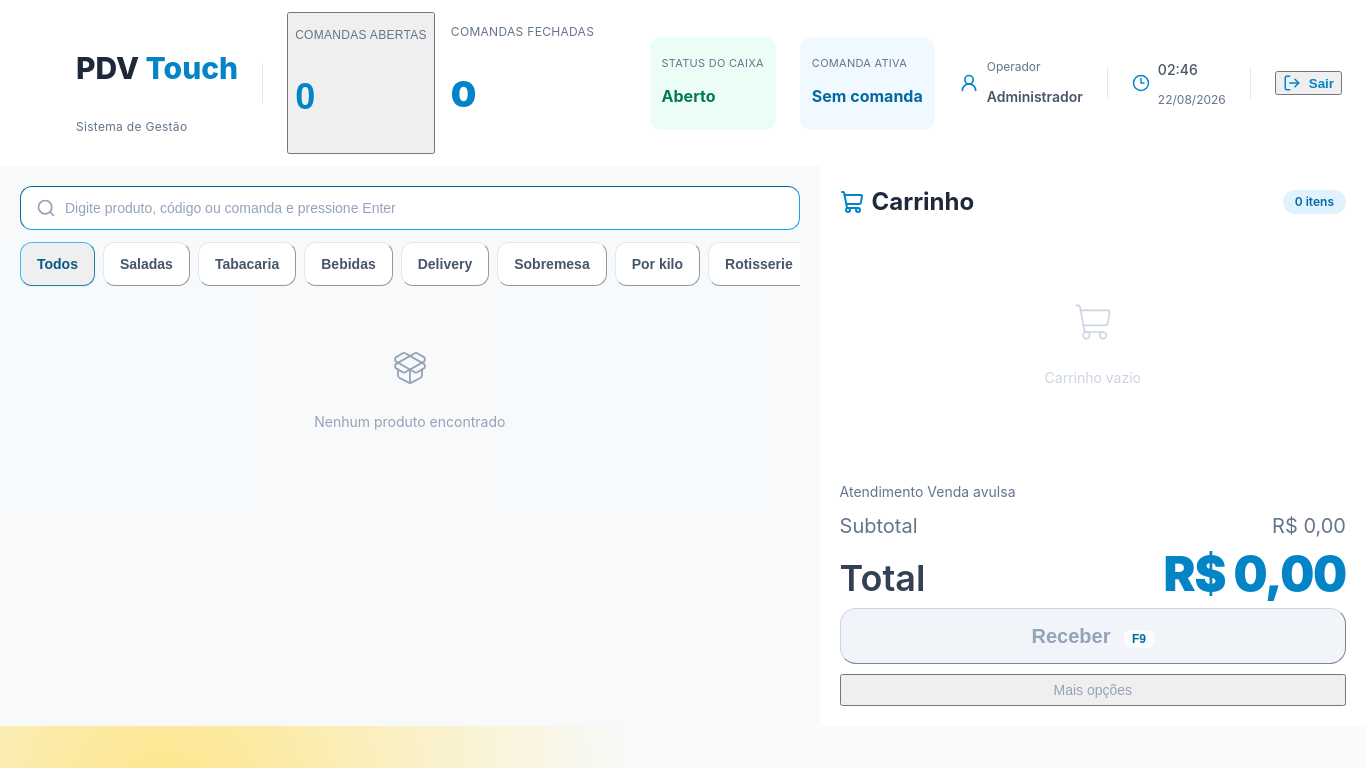
Carregamento da comanda no caixa › abre o teclado virtual do caixa com Ctrl+C e esconde com Esc
The width and height of the screenshot is (1366, 768).
Expected: the element "Teclado virtual do caixa" is not shown
Step 1. Press c
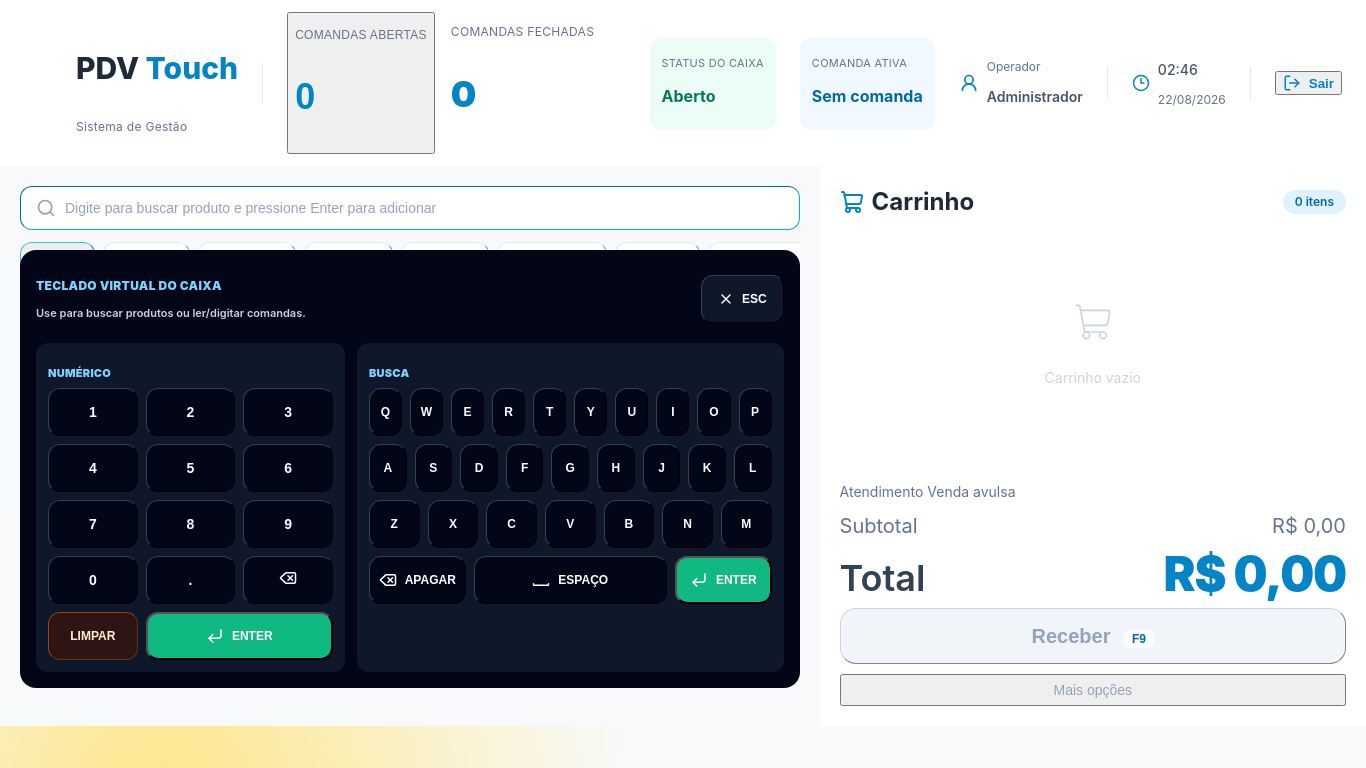
Result: the element "Teclado virtual do caixa" is shown at [20,250,800,688]
Step 2. Click the button "1" → click(93, 412), box [48,388,138,436]
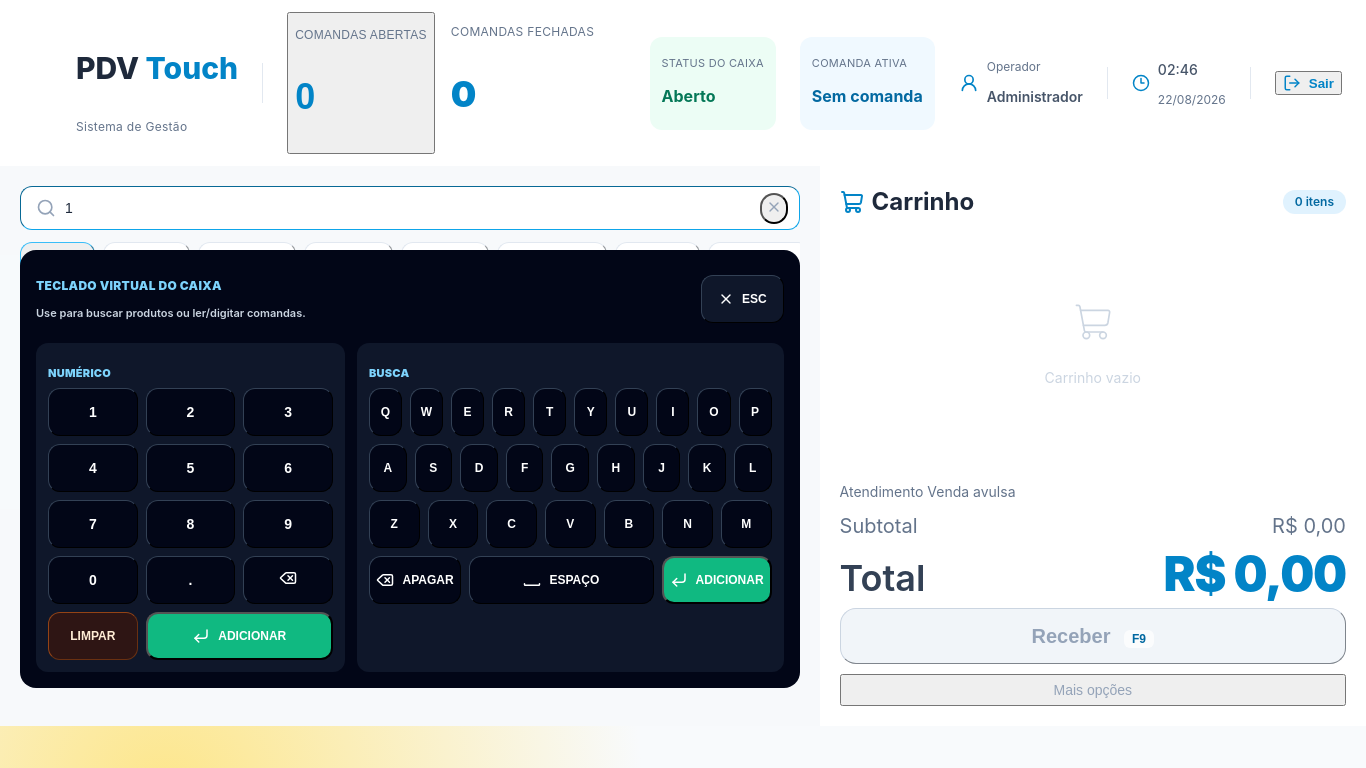
Result: the field with placeholder "Digite produto, código ou comanda e pressione Enter" holds "1" at [20,186,800,230]
Step 3. Press Escape
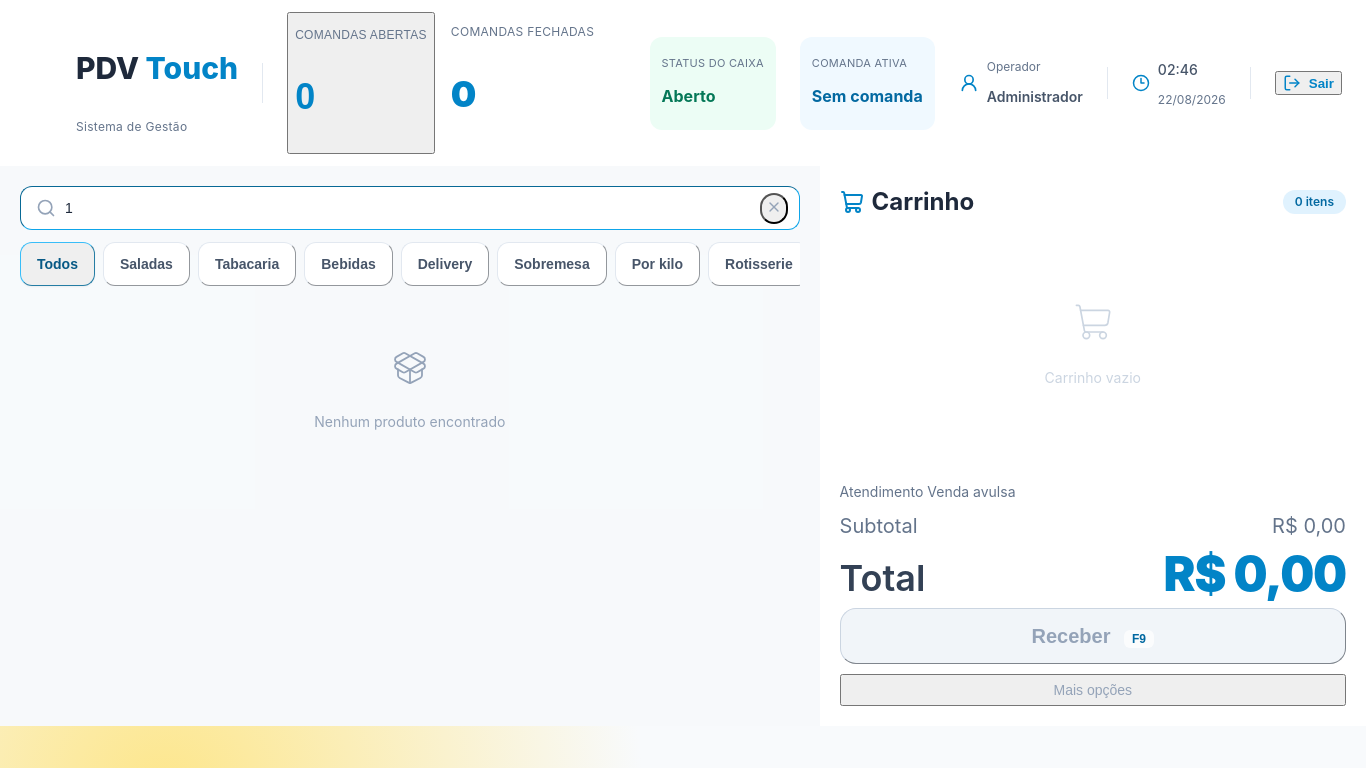
Result: the text "Teclado virtual do caixa" is gone
